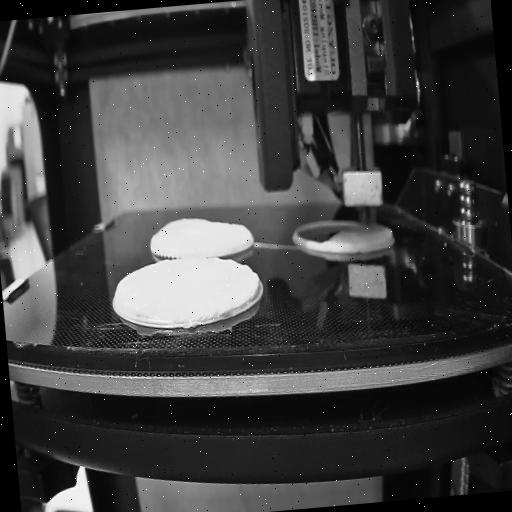over_extrusion: (247, 266, 265, 304)
